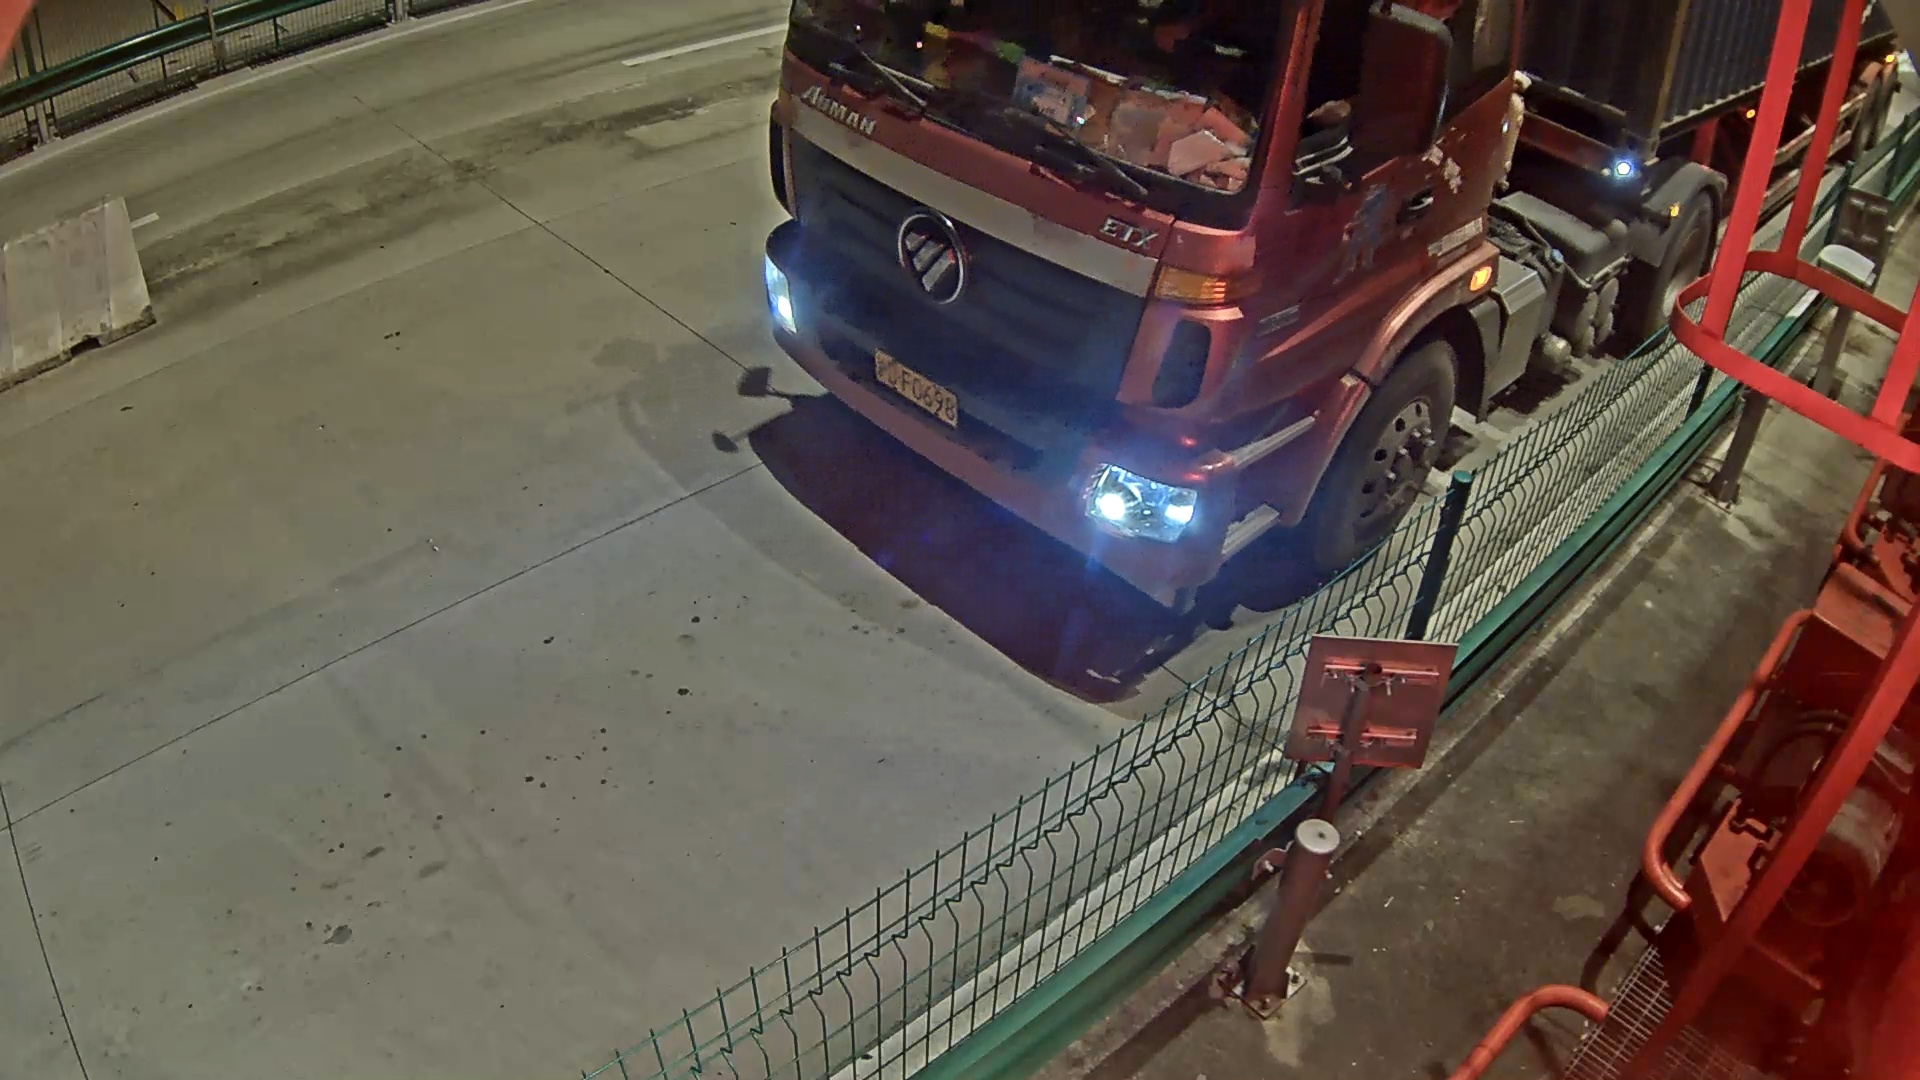head: (747, 10, 1462, 634)
plate: (866, 347, 972, 433)
